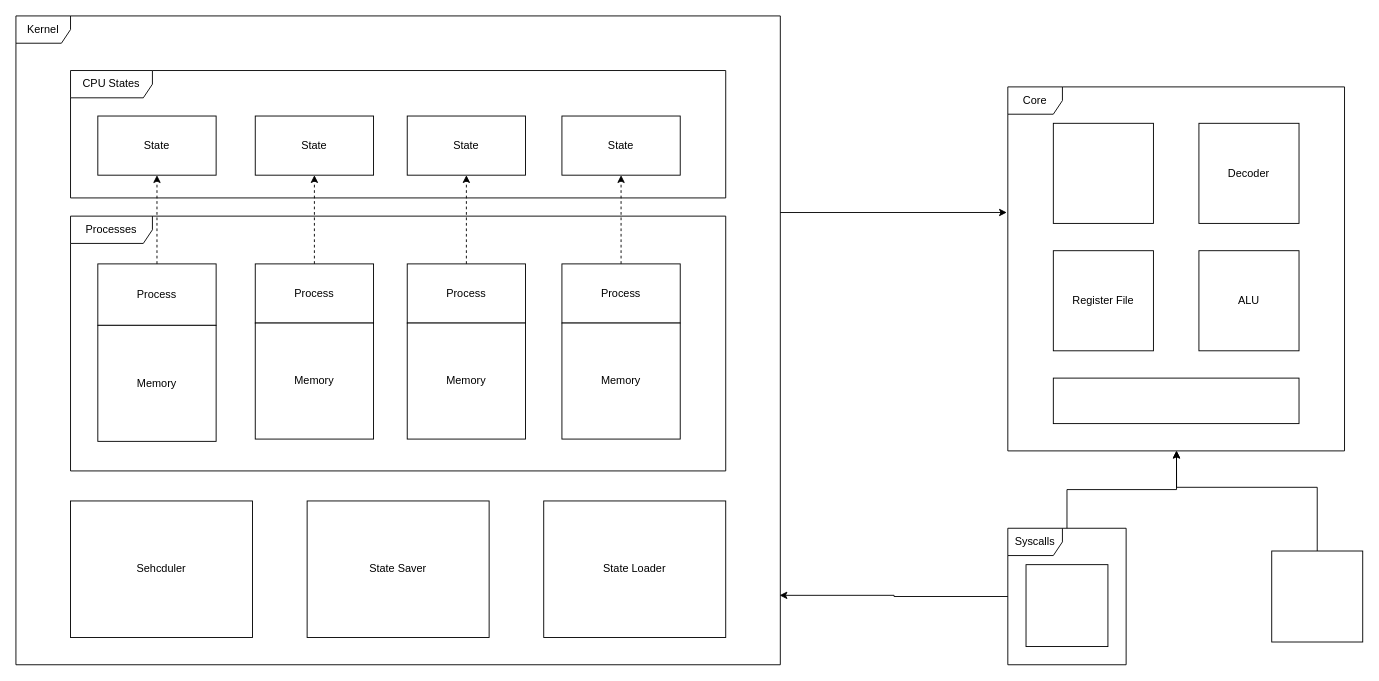
The diagram is 1379 pixels wide and 681 high, and some of its shapes have lost their labels. The centre of each missing label's shape, as x and y in pixels:
Current Process: (1175,400)
Fetch Unit: (1102,172)
Tracer: (1317,596)
Yield: (1066,605)
